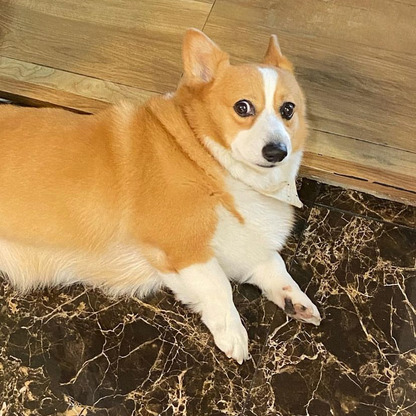Corgi: (135, 24, 322, 358)
